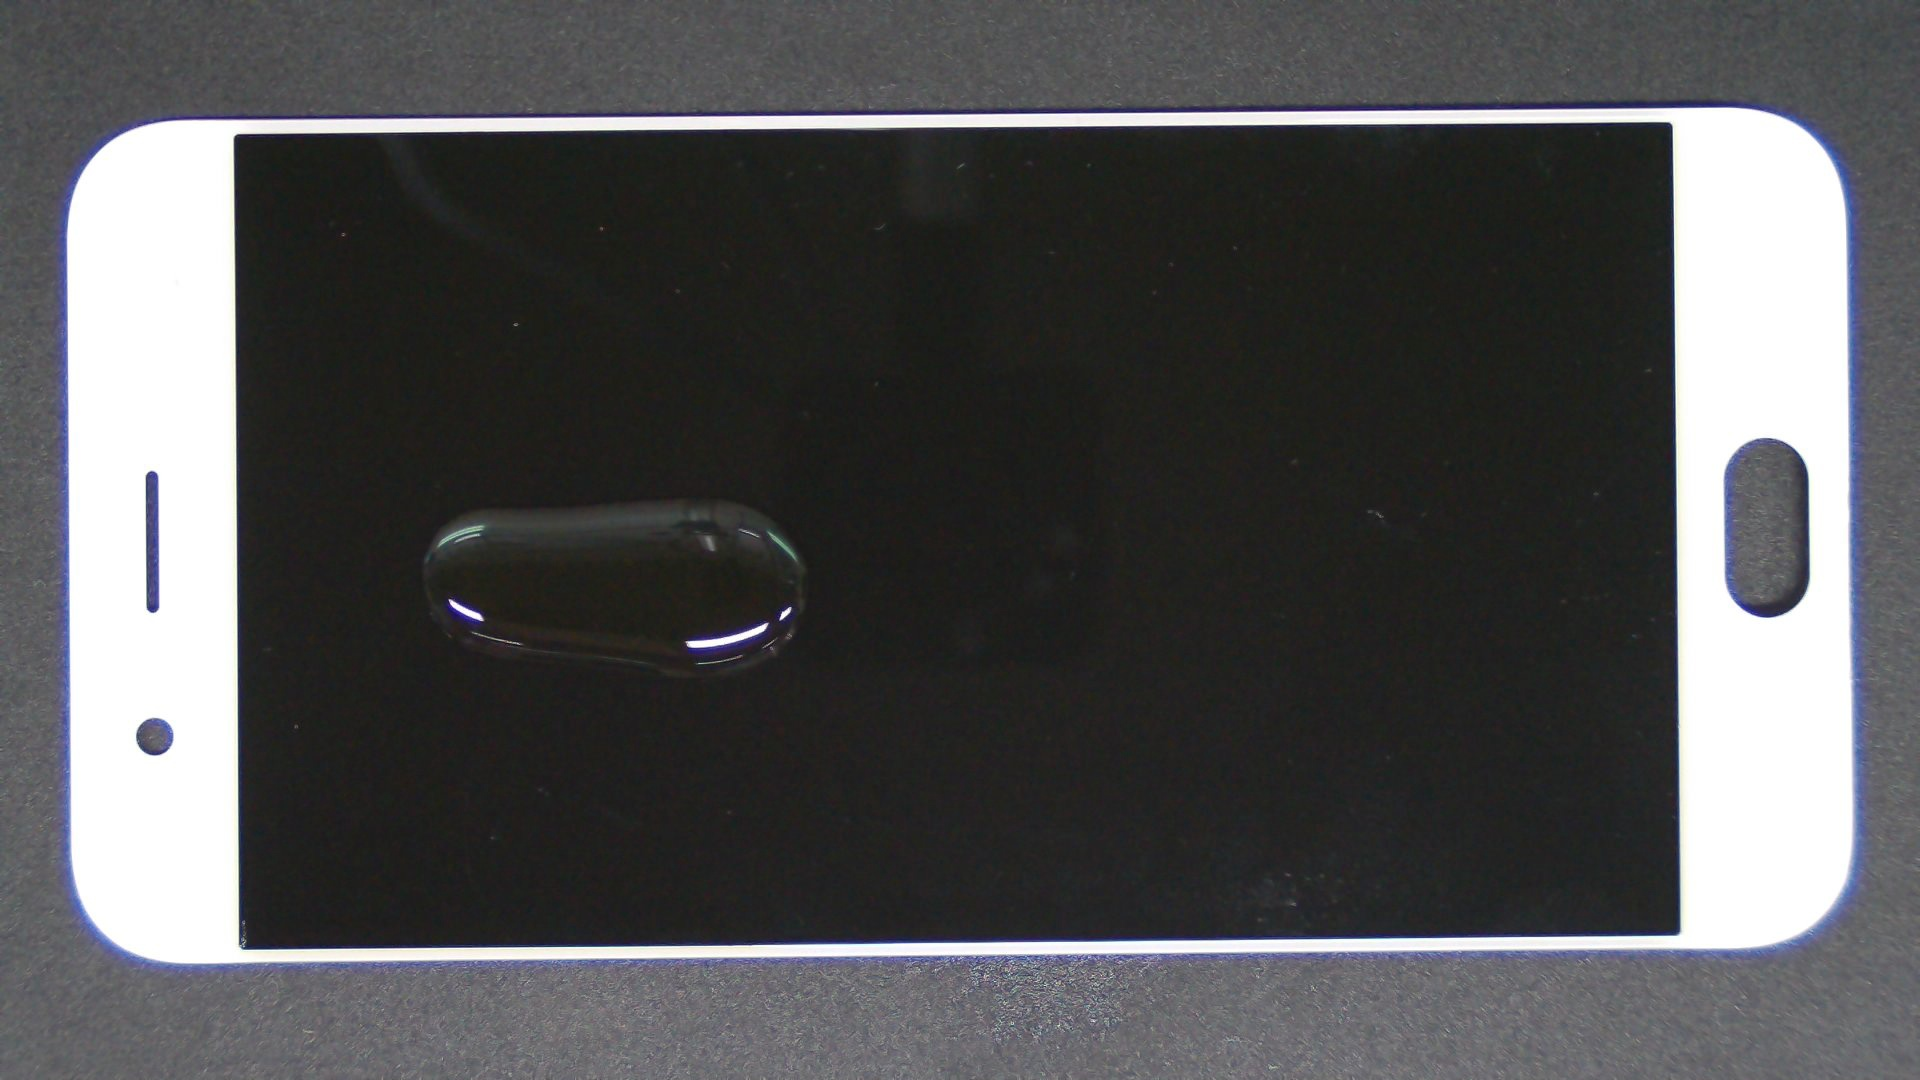oil: (338, 248, 1010, 748)
